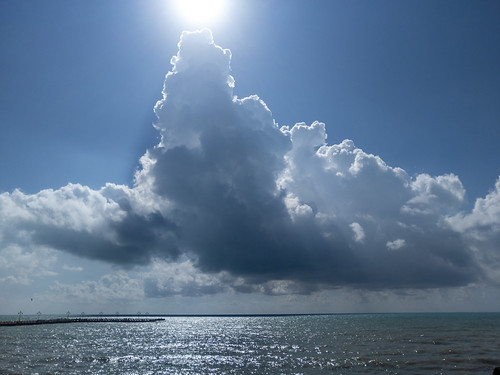sea: (1, 313, 500, 375)
sky: (1, 1, 500, 313)
sun: (168, 1, 230, 26)
